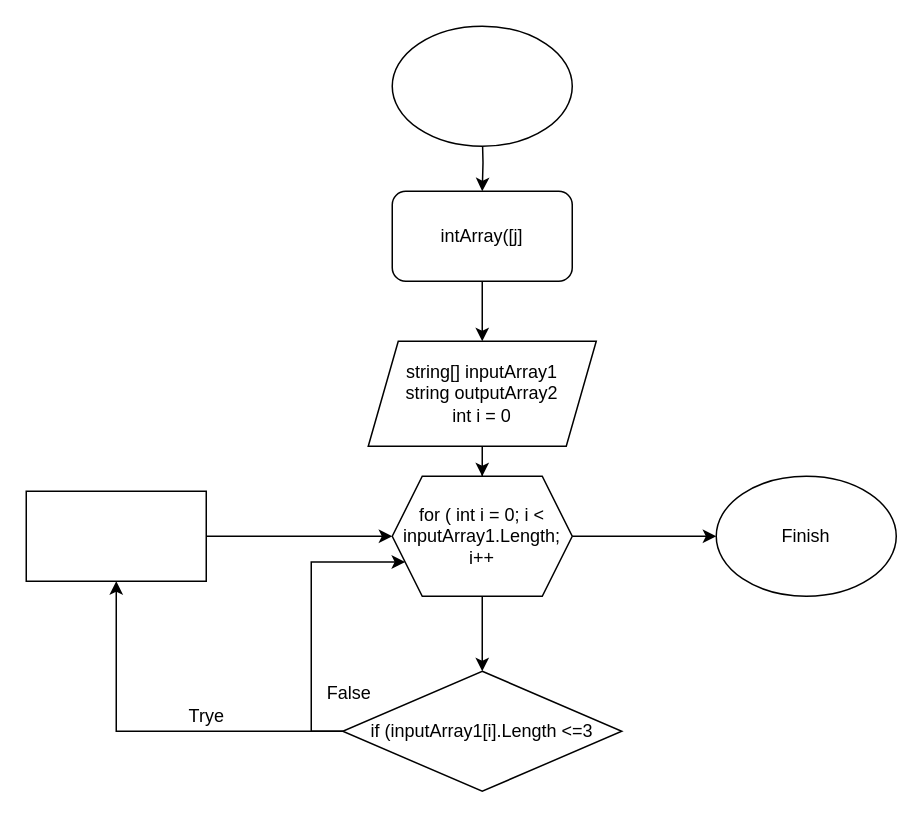
Image size: 923x818. Some labels were removed from this diagram. Each missing label, with the centre of its shape:
"outputArray2[j] = inputArray1[i] j++;" goes at (x=115, y=535).
"Start" goes at (x=481, y=85).
